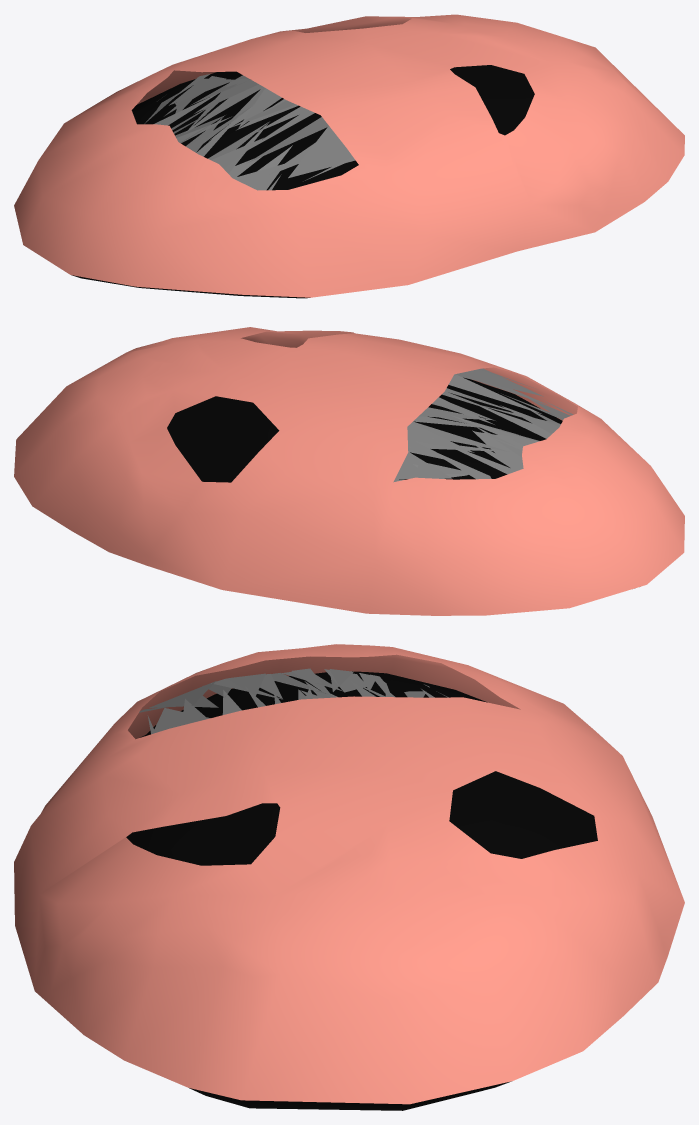
The model's file is Mask_02.fbx.
3 renders of one model, top to bottom at view 1: azimuth 30°, elevation 25°; view 2: azimuth 150°, elevation 25°; view 3: azimuth 270°, elevation 25°, orthographic. The views are drawn at different scales.
Parts seen in each view (by area): view 1: Masks_02; view 2: Masks_02; view 3: Masks_02.
Boxes of the visible parts, x1,y1,x2,y2 form: Masks_02: [14, 14, 684, 298]; Masks_02: [14, 327, 684, 615]; Masks_02: [14, 644, 684, 1110].
Bounding box in the file's own units: 55.9 × 11.08 × 38.95.
